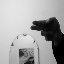h: (29, 16, 62, 43)
